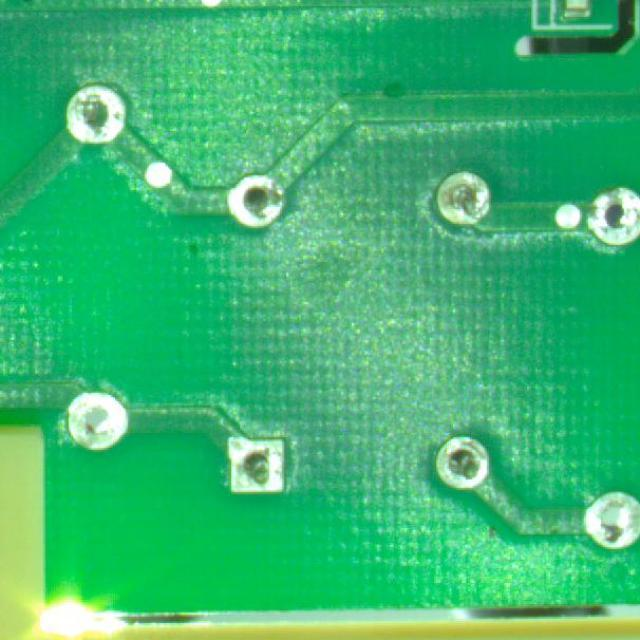Insufficient solder: (217, 426, 299, 502), (51, 379, 132, 455), (432, 419, 496, 493), (222, 165, 286, 238), (57, 83, 129, 147), (575, 485, 640, 549), (585, 173, 639, 247), (438, 166, 497, 225)
